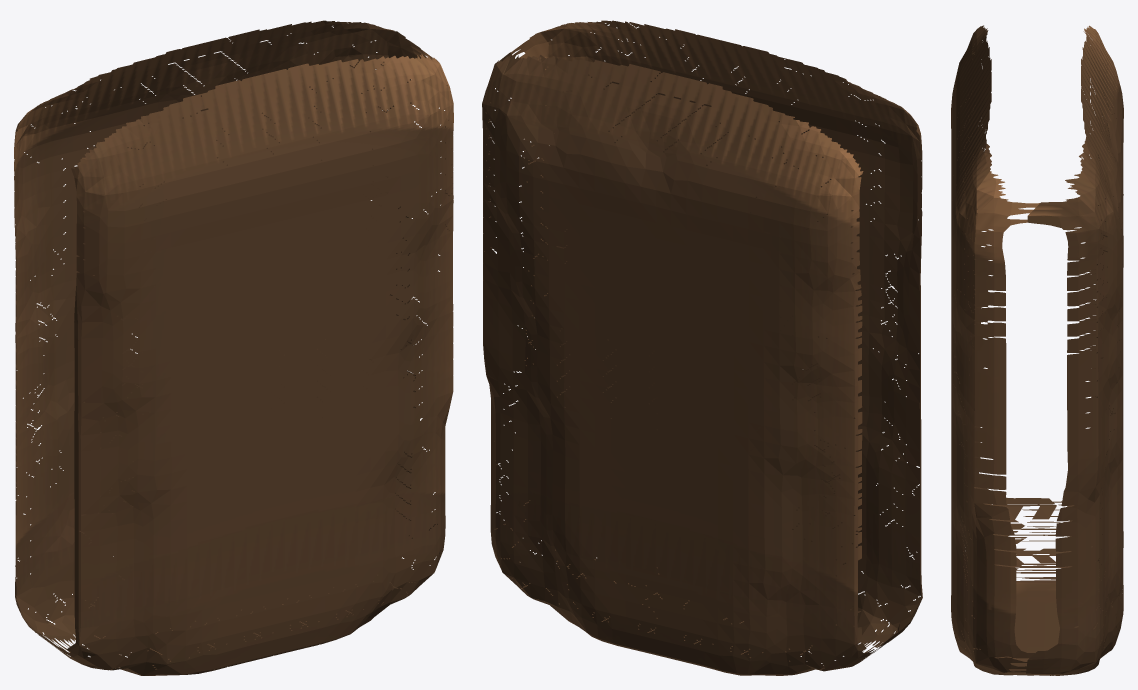
3 renders of one model, left to right at view 1: azimuth 30°, elevation 25°; view 2: azimuth 150°, elevation 25°; view 3: azimuth 270°, elevation 25°, orthographic. The views are drawn at different scales.
Parts seen in each view (by area): view 1: reconstruction; view 2: reconstruction; view 3: reconstruction.
Part boxes in pixels (left/top/right/bottom): reconstruction: left=14, top=20, right=453, bottom=675; reconstruction: left=482, top=20, right=922, bottom=675; reconstruction: left=951, top=25, right=1123, bottom=675.
Size of the model in its own units: 0.698 by 1 by 0.2816.
Materials: 1 (1 with a texture image).
